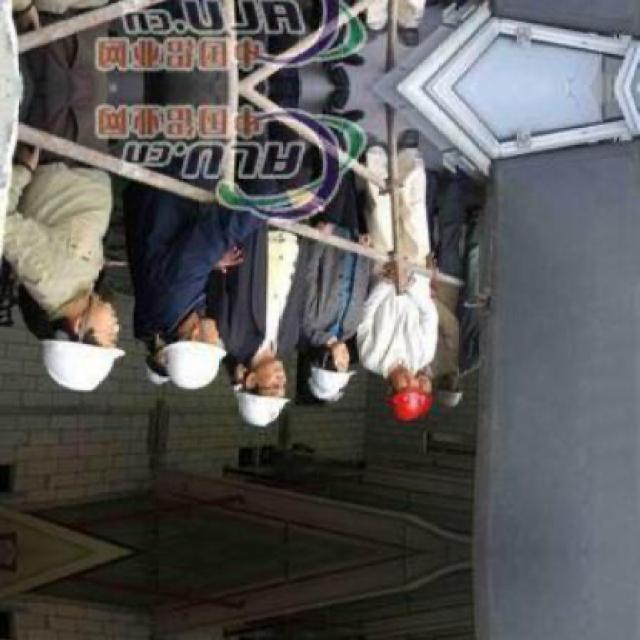con casco: (14, 277, 143, 402), (150, 289, 247, 402), (237, 358, 313, 437), (319, 335, 374, 402), (385, 364, 443, 422)
